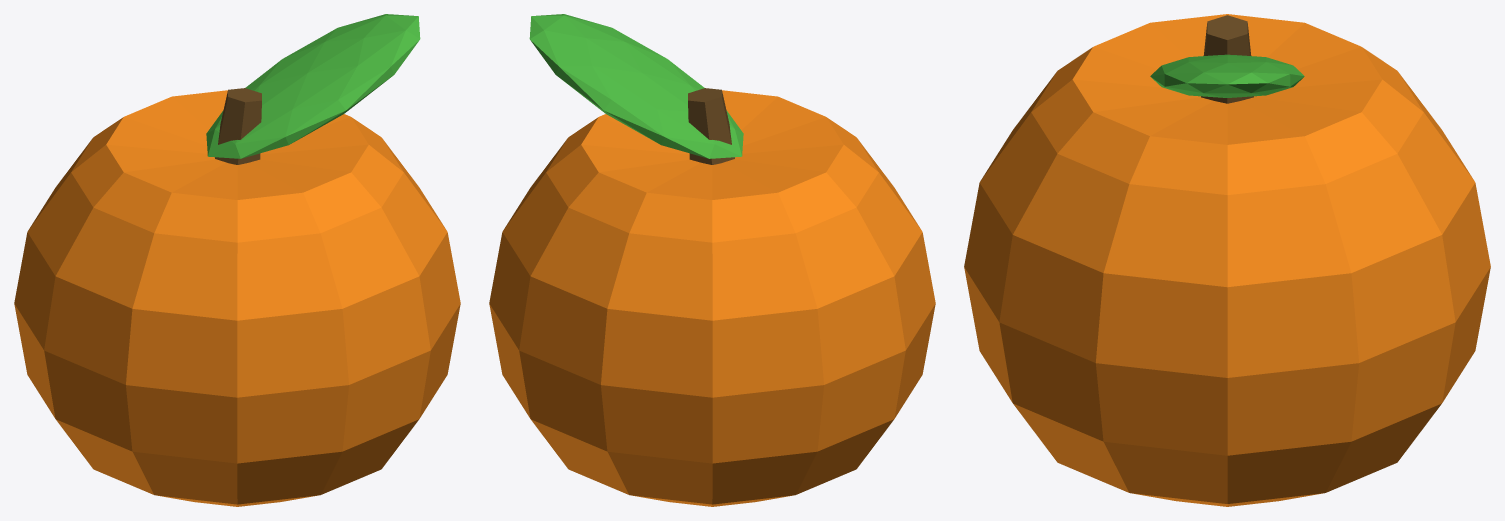
File: OrangeFruit.obj
The picture shows the model from 3 angles, left to right: view 1: azimuth 30°, elevation 25°; view 2: azimuth 150°, elevation 25°; view 3: azimuth 270°, elevation 25°; orthographic projection. The views are drawn at different scales.
Visible parts, largest first — view 1: OrangeFruit_OrangeBody, OrangeFruit_OrangeLeaf, OrangeFruit_OrangeStem; view 2: OrangeFruit_OrangeBody, OrangeFruit_OrangeLeaf, OrangeFruit_OrangeStem; view 3: OrangeFruit_OrangeBody, OrangeFruit_OrangeLeaf, OrangeFruit_OrangeStem.
Part boxes in pixels (<box>): OrangeFruit_OrangeBody: <box>14,90,460,506</box>; OrangeFruit_OrangeLeaf: <box>206,14,420,158</box>; OrangeFruit_OrangeStem: <box>215,88,261,164</box>; OrangeFruit_OrangeBody: <box>489,90,935,506</box>; OrangeFruit_OrangeLeaf: <box>529,14,743,158</box>; OrangeFruit_OrangeStem: <box>688,88,734,164</box>; OrangeFruit_OrangeBody: <box>964,14,1490,506</box>; OrangeFruit_OrangeLeaf: <box>1150,54,1304,97</box>; OrangeFruit_OrangeStem: <box>1201,15,1253,103</box>.
Bounding box in the file's own units: 1.02 × 1.03 × 1.02.
